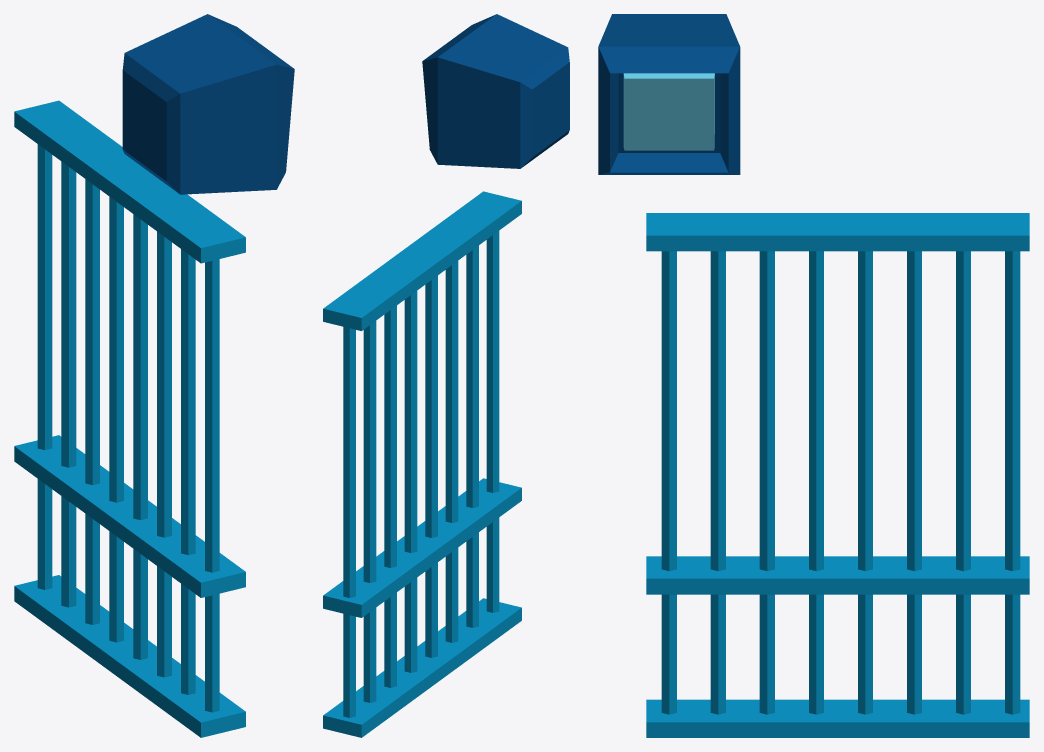
Rendered from Tv_and_PrisonBars.fbx.
The picture shows the model from 3 angles, left to right: view 1: azimuth 30°, elevation 25°; view 2: azimuth 150°, elevation 25°; view 3: azimuth 270°, elevation 25°; orthographic projection. The views are drawn at different scales.
Visible parts, largest first — view 1: JailBars, pCube22; view 2: JailBars, pCube22; view 3: JailBars, pCube22.
Part boxes in pixels (x1,y1,x2,y2): JailBars: [14, 100, 245, 737]; pCube22: [122, 14, 294, 194]; JailBars: [323, 191, 521, 737]; pCube22: [422, 14, 569, 168]; JailBars: [646, 213, 1029, 737]; pCube22: [598, 14, 740, 174].
Size of the model in its own units: 2.7 by 14.46 by 8.1.
